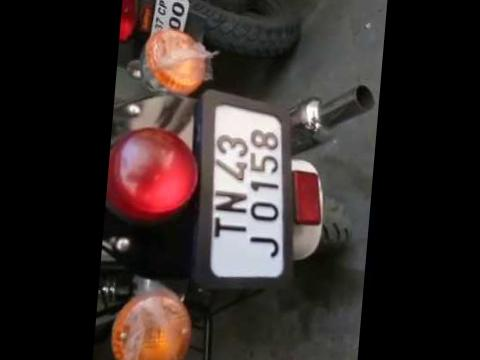plate: (182, 90, 308, 301)
